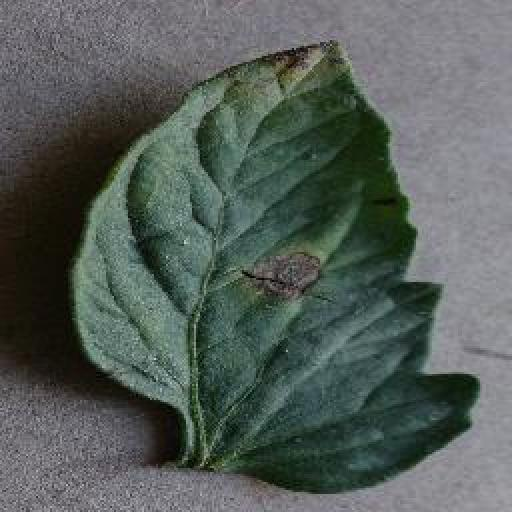disease_tomato: (75, 34, 483, 498)
